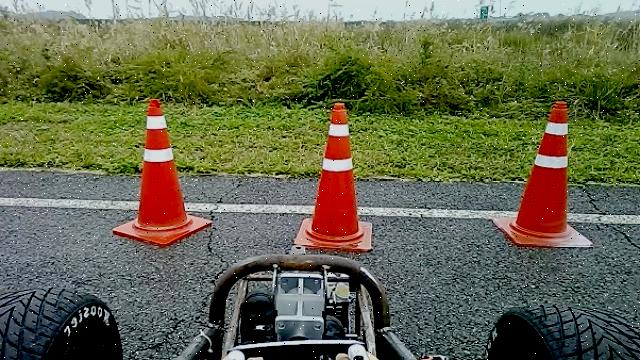red cone: (112, 98, 214, 245), (494, 100, 594, 248), (294, 102, 374, 252)
